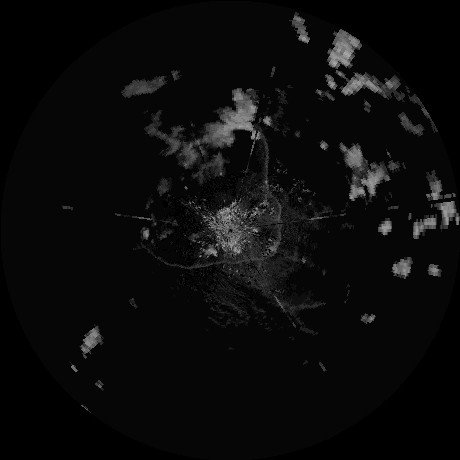frontgust: (140, 243, 266, 269), (260, 131, 283, 258)
